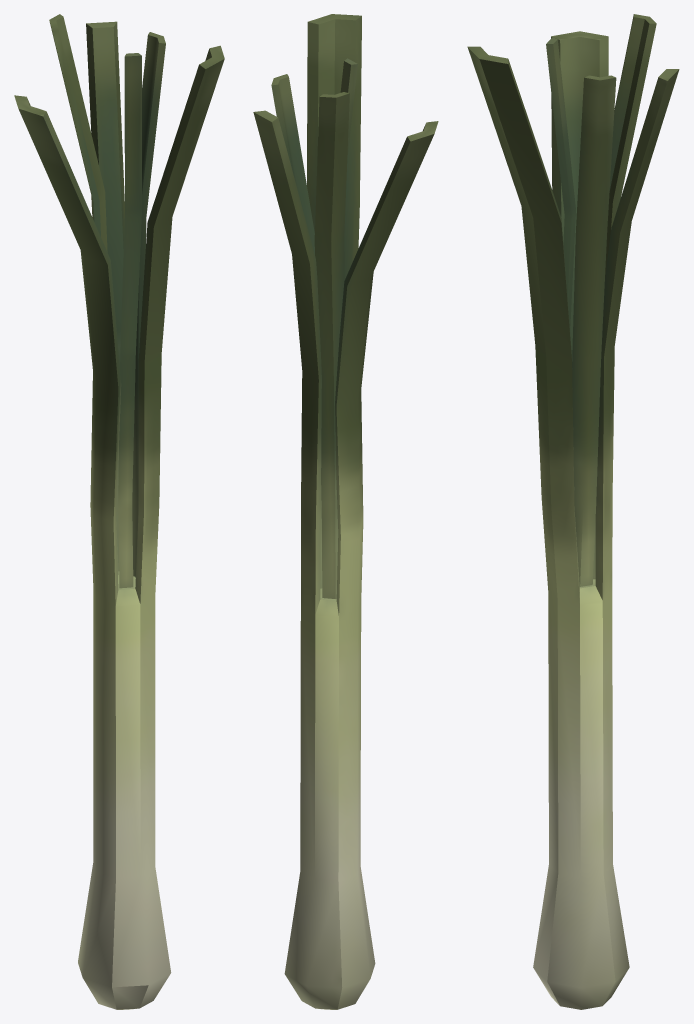
File: porek.glb
The picture shows the model from 3 angles, left to right: view 1: azimuth 30°, elevation 25°; view 2: azimuth 150°, elevation 25°; view 3: azimuth 270°, elevation 25°; orthographic projection. The views are drawn at different scales.
Visible parts, largest first — view 1: porek; view 2: porek; view 3: porek.
Boxes of the visible parts, x1,y1,x2,y2 form: porek: [14, 14, 224, 1009]; porek: [253, 14, 438, 1009]; porek: [467, 14, 679, 1009].
Bounding box in the file's own units: 0.1077 × 0.6 × 0.119.
Materials: 1 (1 with a texture image).
